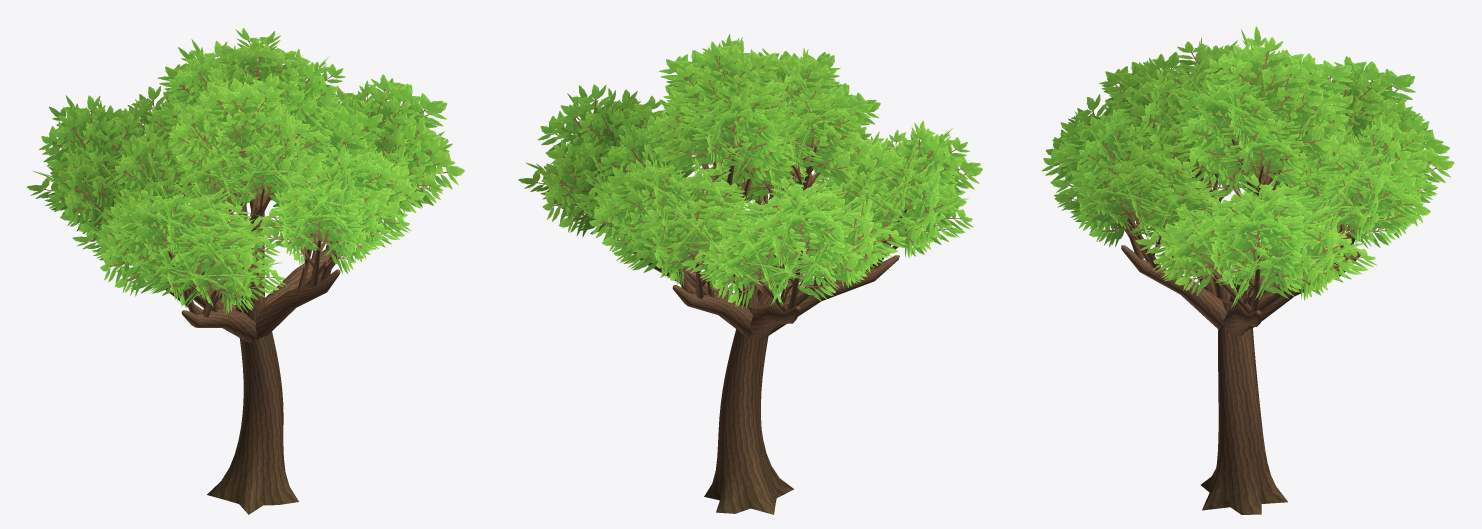
File: green-tree-40MvIchs.glb
3 views of the same model, side by side, from view 1: azimuth 30°, elevation 25°; view 2: azimuth 150°, elevation 25°; view 3: azimuth 270°, elevation 25° (orthographic).
Visible parts, largest first — view 1: canopy-foliage, OakBark; view 2: canopy-foliage, OakBark; view 3: canopy-foliage, OakBark.
Part boxes in pixels (x1,y1,x2,y2): canopy-foliage: (27,28,464,313); OakBark: (100,151,342,514); canopy-foliage: (518,34,982,308); OakBark: (611,146,910,514); canopy-foliage: (1041,26,1454,307); OakBark: (1118,131,1368,514).
Bounding box in the file's own units: 5.1 × 5.55 × 4.7.
2 materials, 2 textured.
